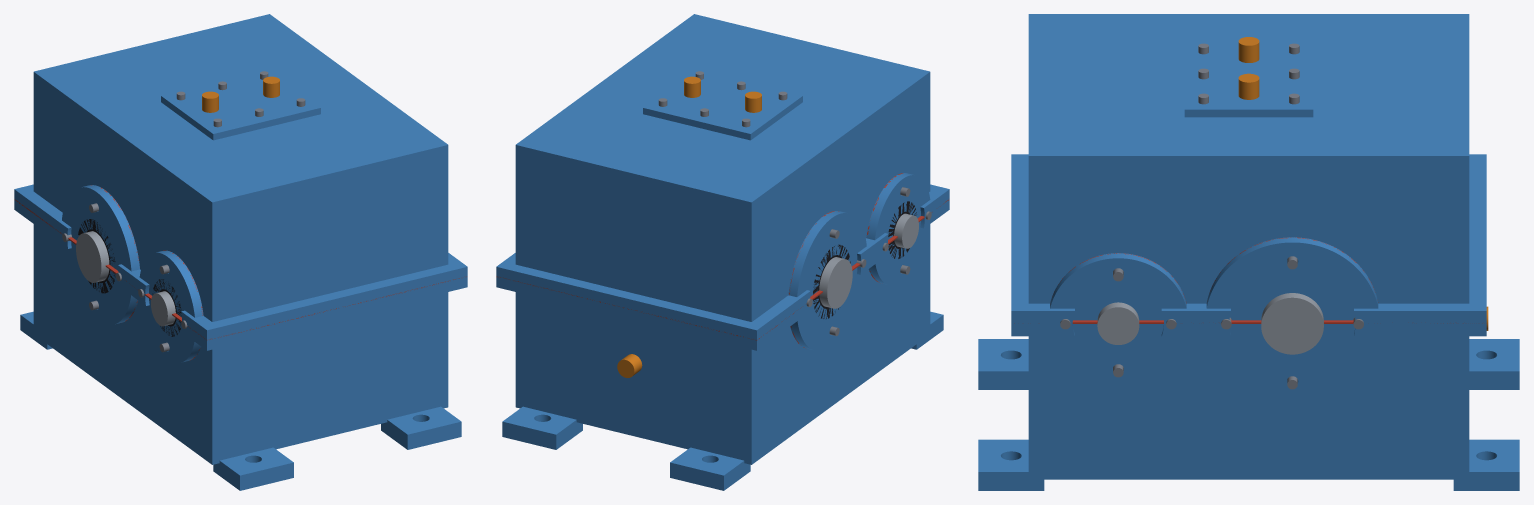
File: single_stage_gearbox_complete.glb
3 renders of one model, left to right at view 1: azimuth 30°, elevation 25°; view 2: azimuth 150°, elevation 25°; view 3: azimuth 270°, elevation 25°, orthographic. The views are drawn at different scales.
Parts seen in each view (by area): view 1: housing_lid, housing_lower, output_through_cover, inspection_cover, input_through_cover, shaft_output, shaft_input, output_radial_seal; view 2: housing_lid, housing_lower, output_through_cover, inspection_cover, input_through_cover, shaft_output, shaft_input, output_radial_seal; view 3: housing_lid, housing_lower, output_blind_cover, input_blind_cover, inspection_cover, shaft_output, shaft_input.
Boxes of the visible parts, bbox=[...] form: housing_lid: bbox=[14, 14, 467, 340]; housing_lower: bbox=[14, 200, 467, 490]; output_through_cover: bbox=[62, 185, 139, 325]; inspection_cover: bbox=[161, 69, 320, 140]; input_through_cover: bbox=[139, 250, 203, 362]; shaft_output: bbox=[76, 231, 109, 282]; shaft_input: bbox=[151, 291, 175, 326]; output_radial_seal: bbox=[78, 219, 115, 293]; housing_lid: bbox=[496, 14, 949, 340]; housing_lower: bbox=[496, 200, 949, 490]; output_through_cover: bbox=[788, 211, 866, 350]; inspection_cover: bbox=[643, 69, 802, 140]; input_through_cover: bbox=[866, 173, 930, 285]; shaft_output: bbox=[819, 257, 852, 308]; shaft_input: bbox=[894, 213, 918, 248]; output_radial_seal: bbox=[813, 244, 850, 318]; housing_lid: bbox=[1011, 14, 1486, 323]; housing_lower: bbox=[978, 323, 1519, 490]; output_blind_cover: bbox=[1206, 237, 1378, 400]; input_blind_cover: bbox=[1050, 253, 1186, 384]; inspection_cover: bbox=[1184, 44, 1313, 117]; shaft_output: bbox=[1261, 293, 1323, 354]; shaft_input: bbox=[1097, 302, 1139, 344].
Bounding box in the file's own units: 220 × 234 × 311.
